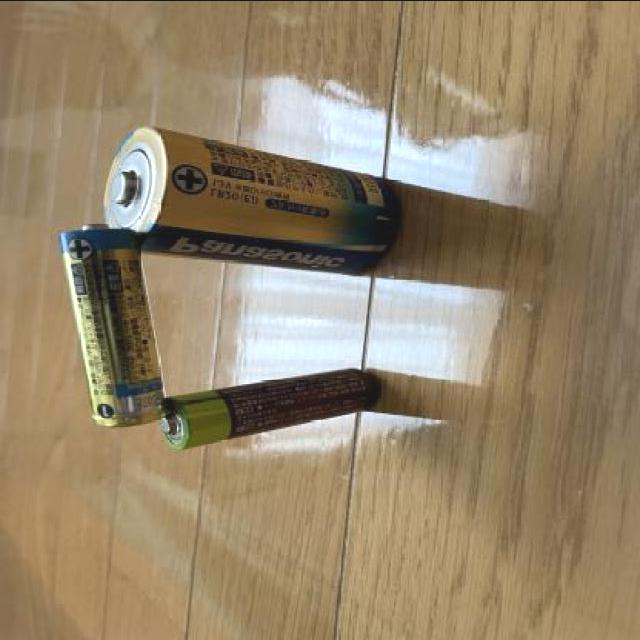AA: (54, 220, 171, 431)
AAA: (156, 360, 382, 449)
